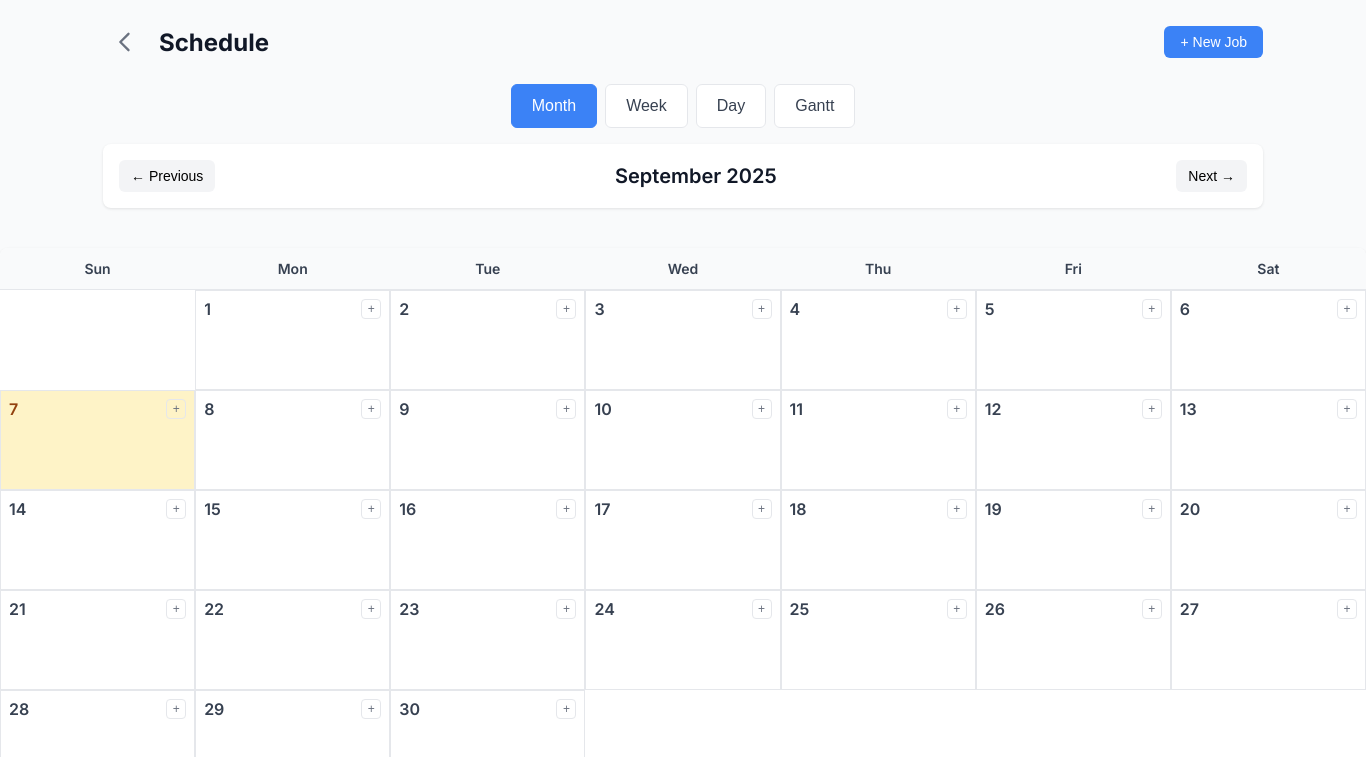
Test case: Calendar Views › switches to week view when clicked
This screenshot has width=1366, height=757.
// Click week button
Click the button "week" at coordinates (646, 106), box [605, 84, 688, 128]
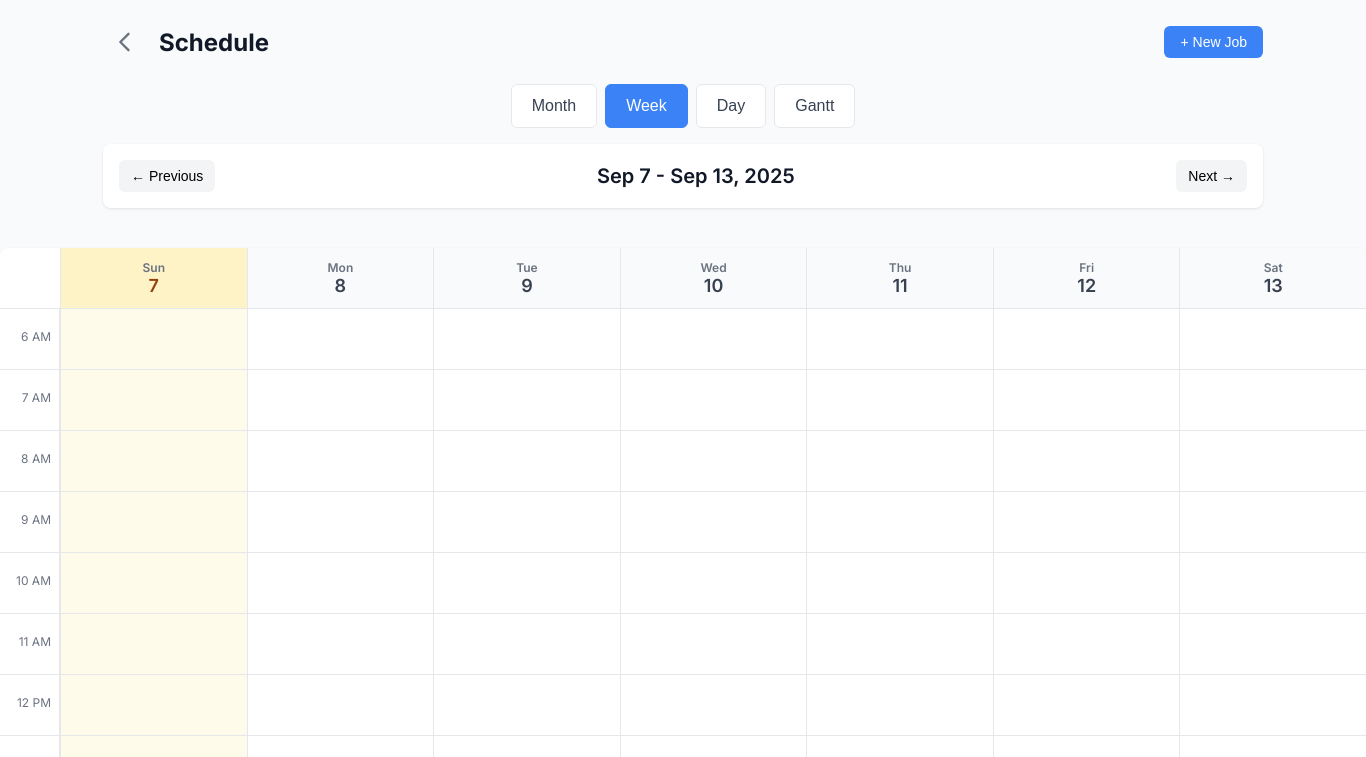
Result: the text "8 AM" is shown at [0, 431, 60, 491]
